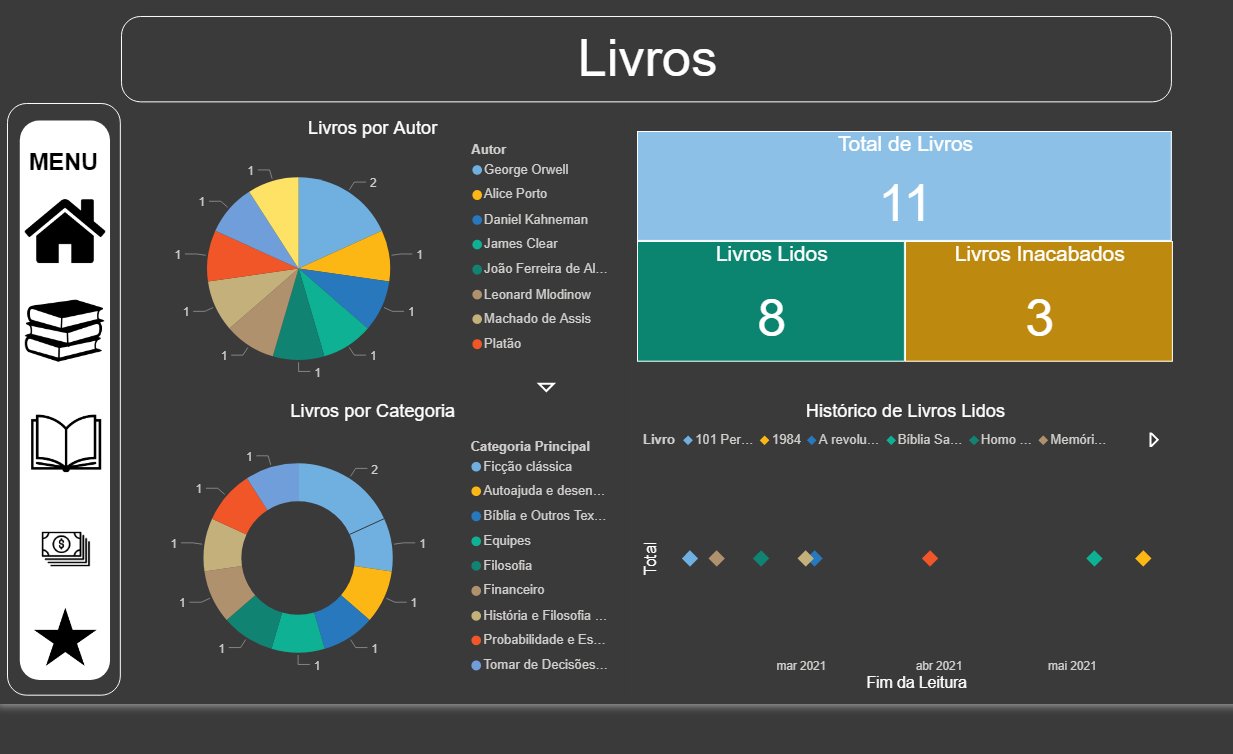

This screenshot's page, from the dashboard's own definition file:
{"tool":"powerbi","page":{"name":"Livros","canvas":[1280,720],"ordinal":1},"visuals":[{"type":"basicShape","title":"Menu","box":[11.4,108.3,116.3,604.1],"z":0},{"type":"textbox","box":[21.7,149.3,94.6,66.1],"z":1000},{"type":"textbox","box":[127.8,19.4,1071.2,87.8],"z":2000},{"type":"image","box":[22.8,410.3,96.9,87.8],"z":3000},{"type":"image","box":[5.7,610.9,127.7,83.2],"z":4000},{"type":"image","box":[19.4,294.1,100.3,91.2],"z":5000},{"type":"image","box":[16,192.6,107.1,92.3],"z":6000},{"type":"donutChart","title":"Livros por Categoria","fields":{"Category":["Books Info.Categoria Principal"],"Series":["Books Info.Categoria 2"],"Y":["Books Info.Contagem Livros"]},"box":[127.8,410.7,513.4,301.2],"z":7000},{"type":"pieChart","title":"Livros por Autor","fields":{"Y":["Books Info.Código Amazon"],"Category":["Books Info.Autor"]},"box":[127.7,122,512.9,288.4],"z":8000},{"type":"card","title":"Livros Lidos","fields":{"Values":["Books Info.Contagem Livros"]},"box":[653.4,248.9,272.7,122.9],"z":9000},{"type":"card","title":"Total de Livros","fields":{"Values":["Books Info.Contagem Livros"]},"box":[653.7,136.9,545.3,111.8],"z":10000},{"type":"card","title":"Livros Inacabados","fields":{"Values":["Books Info.Contagem Livros"]},"box":[926,248.9,272.7,122.9],"z":11000},{"type":"lineChart","title":"Histórico de Livros Lidos","fields":{"Category":["Books Info.Fim leitura"],"Series":["Books Info.Livro"],"Y":["Books Info.Contagem Livros"]},"box":[654.1,410.8,545.1,300.8],"z":12000},{"type":"image","box":[6.8,508.4,126.5,108.3],"z":13000}]}

Visuals, with their boxes on the page's 1280x720 design canvas (x1, y1, x2, y2). These are canvas units, not pixel positions in the 1233x754 screenshot, which may show the page scaled, cropped or inside an application window:
"Menu" basicShape: region(11, 108, 128, 712)
textbox: region(22, 149, 116, 215)
textbox: region(128, 19, 1199, 107)
image: region(23, 410, 120, 498)
image: region(6, 611, 133, 694)
image: region(19, 294, 120, 385)
image: region(16, 193, 123, 285)
"Livros por Categoria" donutChart: region(128, 411, 641, 712)
"Livros por Autor" pieChart: region(128, 122, 641, 410)
"Livros Lidos" card: region(653, 249, 926, 372)
"Total de Livros" card: region(654, 137, 1199, 249)
"Livros Inacabados" card: region(926, 249, 1199, 372)
"Histórico de Livros Lidos" lineChart: region(654, 411, 1199, 712)
image: region(7, 508, 133, 617)
